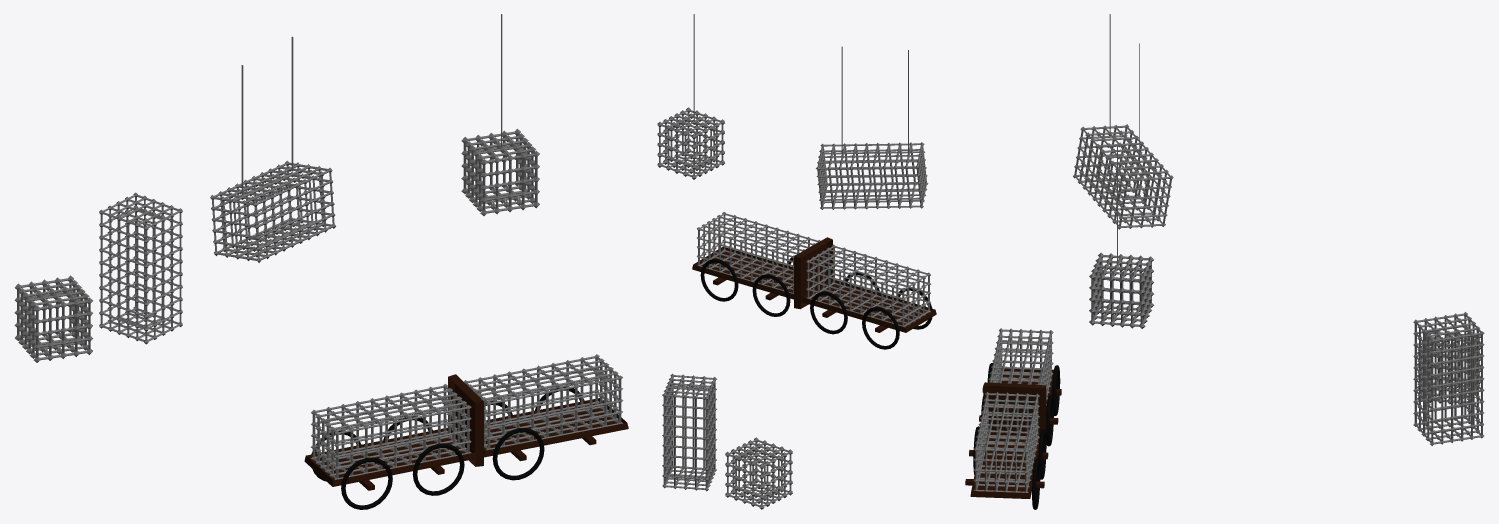
The model's file is Jaulas.fbx.
3 views of the same model, side by side, from view 1: azimuth 30°, elevation 25°; view 2: azimuth 150°, elevation 25°; view 3: azimuth 270°, elevation 25° (orthographic). The views are drawn at different scales.
Parts seen in each view (by area): view 1: Torus007, Box010, Box004, Box011, Box001; view 2: Torus007, Box010, Box004, Box011, Box001; view 3: Torus007, Box004, Box010, Box011, Box001.
Boxes of the visible parts, box(x1,y1,x2,y2) form: Torus007: box(304, 354, 628, 509); Box010: box(210, 36, 335, 262); Box004: box(99, 192, 182, 344); Box011: box(461, 14, 539, 215); Box001: box(14, 275, 93, 362); Torus007: box(692, 212, 936, 349); Box010: box(816, 46, 928, 209); Box004: box(662, 373, 716, 491); Box011: box(657, 14, 724, 179); Box001: box(725, 437, 792, 509); Torus007: box(965, 328, 1061, 509); Box004: box(1413, 312, 1484, 445); Box010: box(1073, 14, 1173, 229); Box011: box(1089, 145, 1154, 328); Box001: box(1417, 330, 1480, 404).
Bounding box in the file's own units: 109 × 126 × 156.
